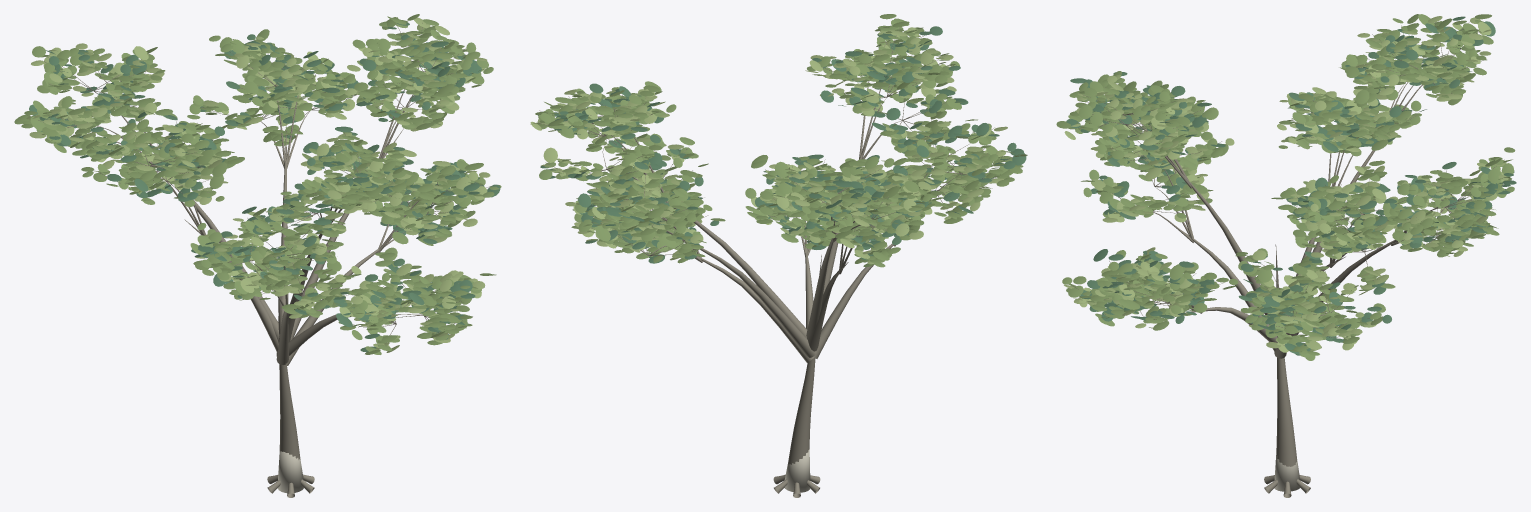
Rendered from tree1b.glb.
3 views of the same model, side by side, from view 1: azimuth 30°, elevation 25°; view 2: azimuth 150°, elevation 25°; view 3: azimuth 270°, elevation 25° (orthographic).
Visible parts, largest first — view 1: Tree1b_Leaf, Tree1b_LeafLight, Tree1b_LeafDark, Tree1b_Trunk, Tree1b_BarkLight; view 2: Tree1b_Leaf, Tree1b_LeafLight, Tree1b_LeafDark, Tree1b_Trunk, Tree1b_BarkLight; view 3: Tree1b_Leaf, Tree1b_LeafLight, Tree1b_LeafDark, Tree1b_Trunk, Tree1b_BarkLight.
Boxes of the visible parts, x1,y1,x2,y2 form: Tree1b_Leaf: (14,14,501,354); Tree1b_LeafLight: (26,17,490,352); Tree1b_LeafDark: (29,22,500,352); Tree1b_Trunk: (28,23,490,497); Tree1b_BarkLight: (277,451,303,492); Tree1b_Leaf: (535,14,1027,267); Tree1b_LeafLight: (530,27,1007,264); Tree1b_LeafDark: (537,26,1026,263); Tree1b_Trunk: (538,27,1013,497); Tree1b_BarkLight: (784,449,810,492); Tree1b_Leaf: (1056,14,1515,360); Tree1b_LeafLight: (1064,16,1508,352); Tree1b_LeafDark: (1066,16,1516,355); Tree1b_Trunk: (1072,21,1504,497); Tree1b_BarkLight: (1274,455,1300,491).
Size of the model in its own units: 13.56 by 12.5 by 13.01.
